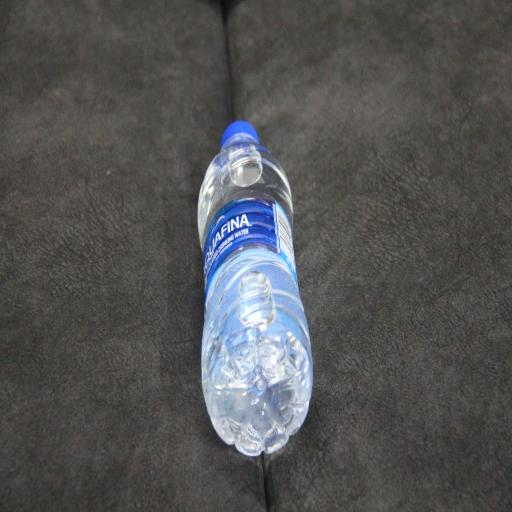Aquafina: (186, 112, 324, 466)
